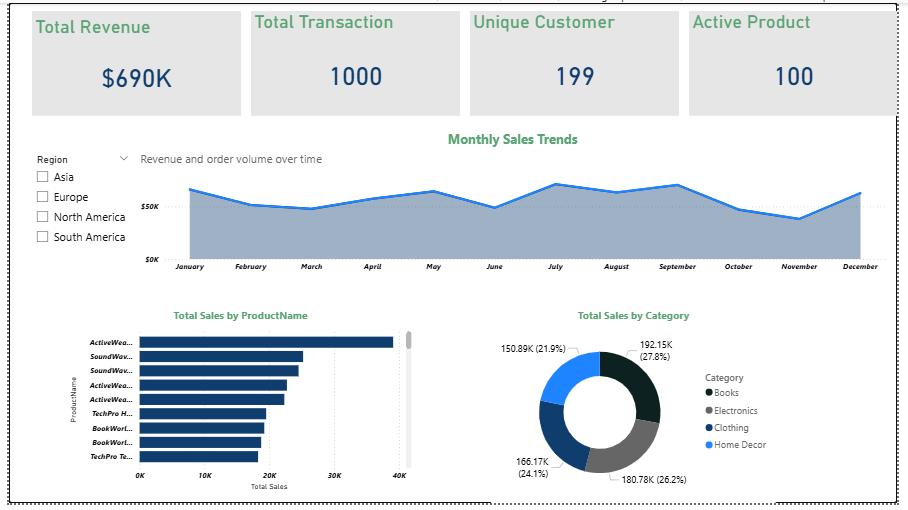

This screenshot's page, from the dashboard's own definition file:
{"tool":"powerbi","page":{"name":"Sales Dashboard","canvas":[1280,720],"ordinal":0},"visuals":[{"type":"donutChart","fields":{"Y":["Sum(Transactions.TotalValue)"],"Category":["Product.Category"]},"box":[694.1,439.2,410.4,280.8],"z":0},{"type":"clusteredBarChart","fields":{"Category":["Product.ProductName"],"Y":["Sum(Transactions.TotalValue)"]},"box":[82.1,439.2,502.6,267.8],"z":1000},{"type":"stackedAreaChart","title":"Monthly Sales Trends","fields":{"Category":["Transactions.TransactionDate.Variation.Date Hierarchy.Month","Transactions.TransactionDate.Variation.Date Hierarchy.Day"],"Y":["Sum(Transactions.TotalValue)","CountNonNull(Transactions.TransactionID)"]},"box":[184.4,183.1,1081.8,214.7],"z":2000},{"type":"card","title":"Total Revenue","fields":{"Values":["Sum(Transactions.TotalValue)"]},"box":[33.1,0,301,151.2],"z":3000},{"type":"card","title":"Total Transaction","fields":{"Values":["CountNonNull(Transactions.TransactionID)"]},"box":[349.9,0,301,151.2],"z":4000},{"type":"card","title":"Unique Customer","fields":{"Values":["Count(Transactions.CustomerID)"]},"box":[663.8,0,301,151.2],"z":5000},{"type":"card","title":"Active Product","fields":{"Values":["Count(Product.ProductID)"]},"box":[979.2,0,301,151.2],"z":6000},{"type":"slicer","fields":{"Values":["Customer.Region"]},"box":[27.4,211.7,157,165.6],"z":7000}]}

Visuals, with their boxes in screenshot pixels (x1, y1, x2, y2), scaled from the page's 1280x720 canvas onto the 908x510 screenshot:
donutChart - Sum(Transactions.TotalValue) x Product.Category: 492 311 784 509
clusteredBarChart - Product.ProductName x Sum(Transactions.TotalValue): 58 311 415 501
"Monthly Sales Trends" stackedAreaChart: 131 130 898 282
"Total Revenue" card: 23 0 237 107
"Total Transaction" card: 248 0 462 107
"Unique Customer" card: 471 0 684 107
"Active Product" card: 695 0 907 107
slicer - Customer.Region: 19 150 131 267
